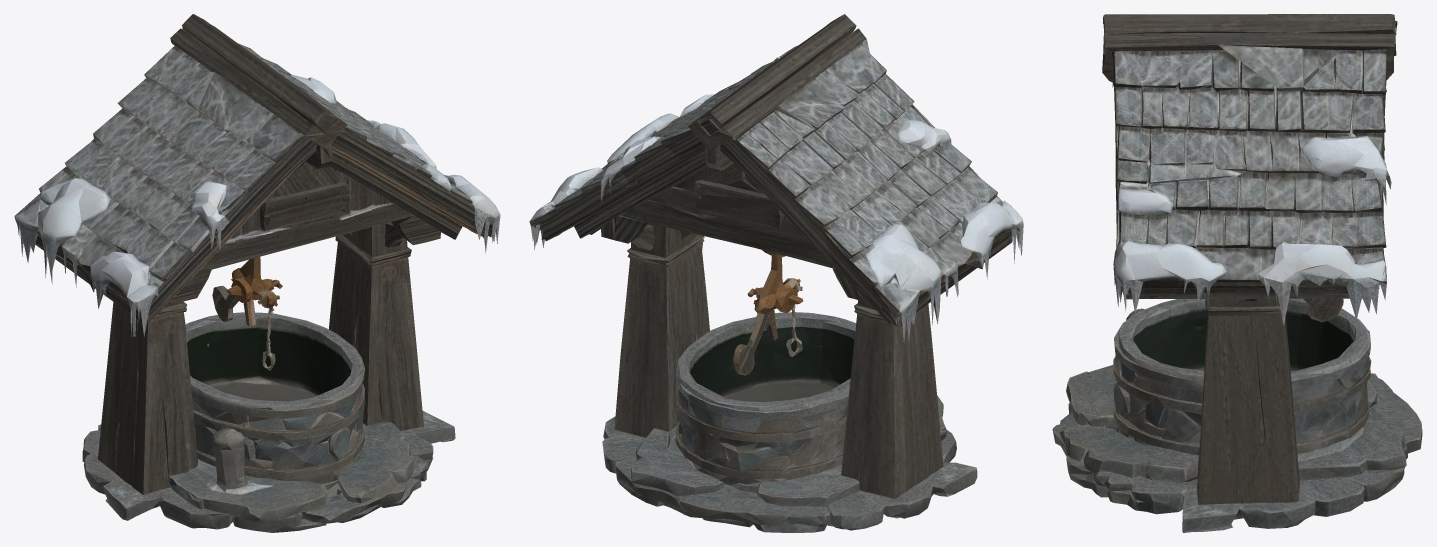
Rendered from well.glb.
The picture shows the model from 3 angles, left to right: view 1: azimuth 30°, elevation 25°; view 2: azimuth 150°, elevation 25°; view 3: azimuth 270°, elevation 25°; orthographic projection. The views are drawn at different scales.
Size of the model in its own units: 1.86 by 1.9 by 1.46.
Materials: 1 (1 with a texture image).
